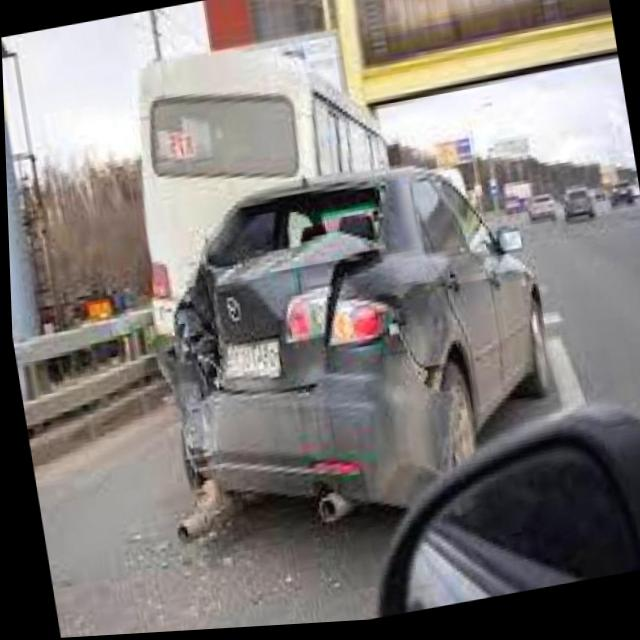Car-Damage: (139, 224, 412, 478), (361, 284, 471, 512)
